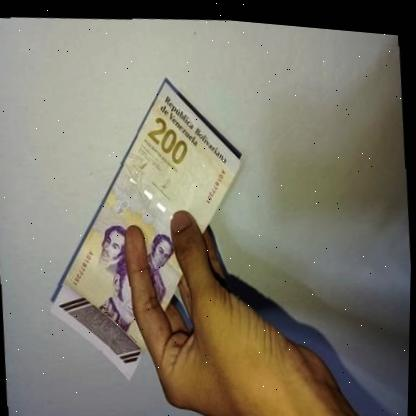two_hundred-front-vef: (31, 62, 260, 393)
